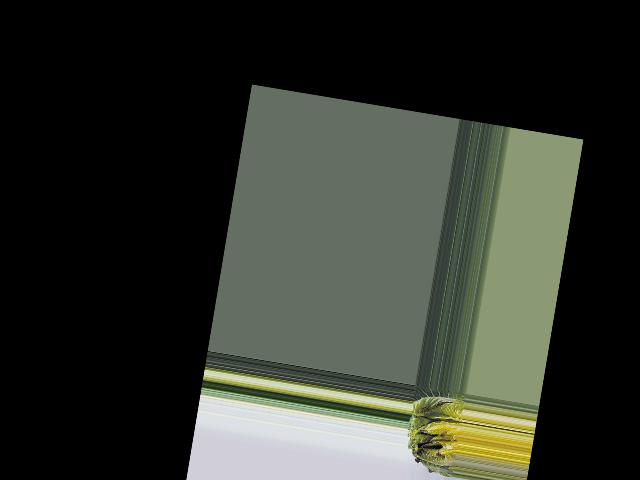lettuce: (403, 385, 467, 474)
